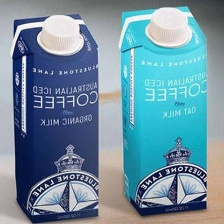carton: (6, 8, 102, 223), (116, 3, 211, 218)
